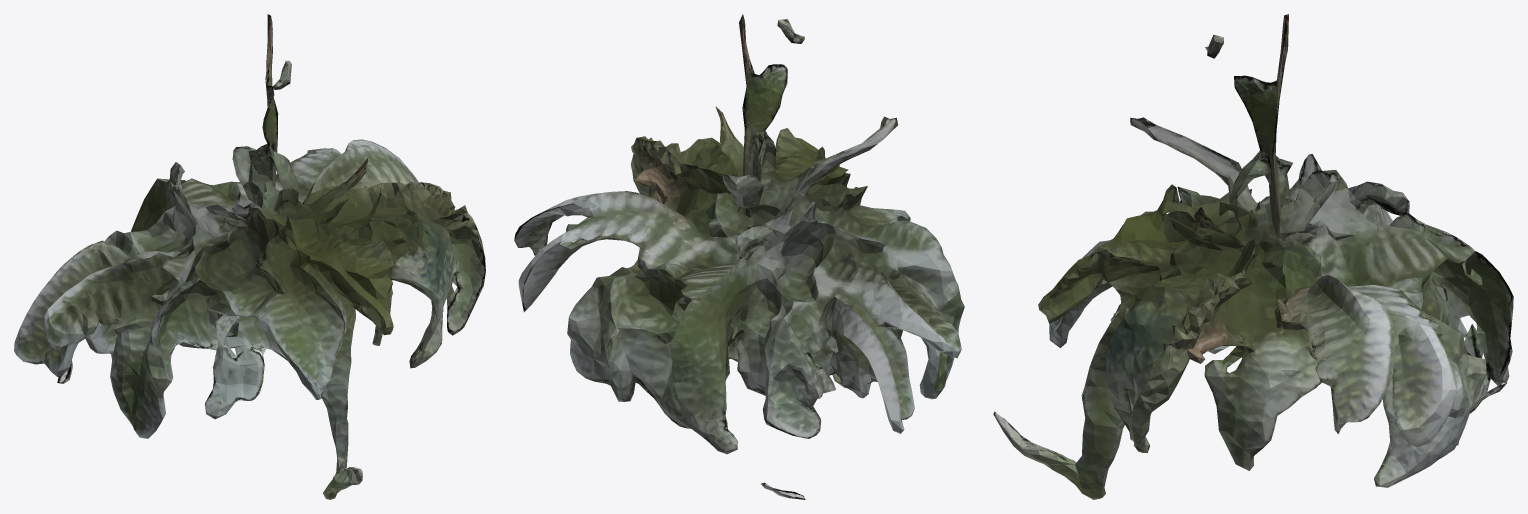
File: ast_002889f330aa.glb
The picture shows the model from 3 angles, left to right: view 1: azimuth 30°, elevation 25°; view 2: azimuth 150°, elevation 25°; view 3: azimuth 270°, elevation 25°; orthographic projection. The views are drawn at different scales.
Parts seen in each view (by area): view 1: geometry_0; view 2: geometry_0; view 3: geometry_0.
Boxes of the visible parts, bbox=[...] form: geometry_0: bbox=[14, 14, 485, 499]; geometry_0: bbox=[514, 14, 964, 499]; geometry_0: bbox=[993, 14, 1513, 499].
Bounding box in the file's own units: 0.6276 × 0.6234 × 0.5908.
Materials: 1 (1 with a texture image).
